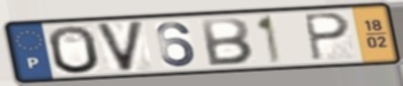1: (255, 12, 283, 66)
6: (155, 20, 199, 68)
B: (198, 16, 255, 68)
O: (46, 24, 103, 76)
P: (300, 11, 353, 63)
V: (92, 19, 147, 75)
